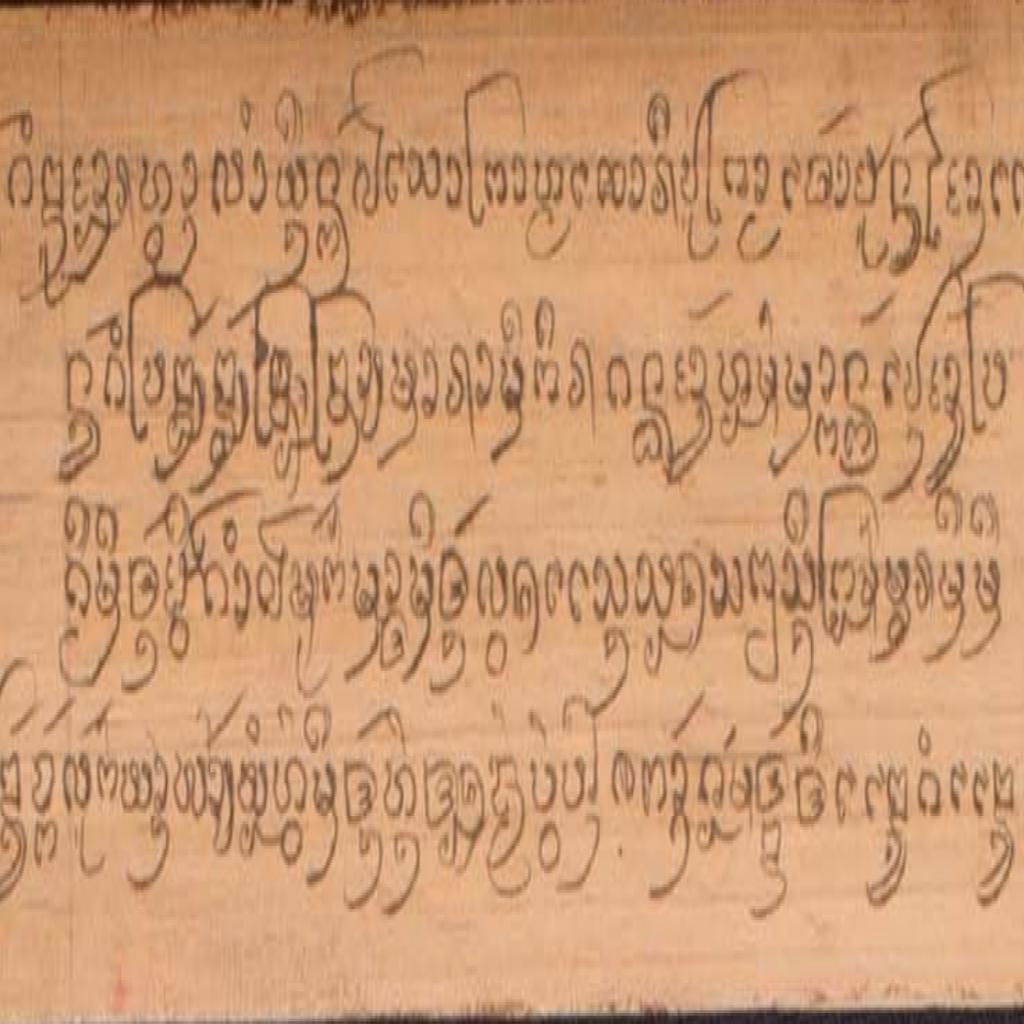LN015: (745, 535, 781, 698)
